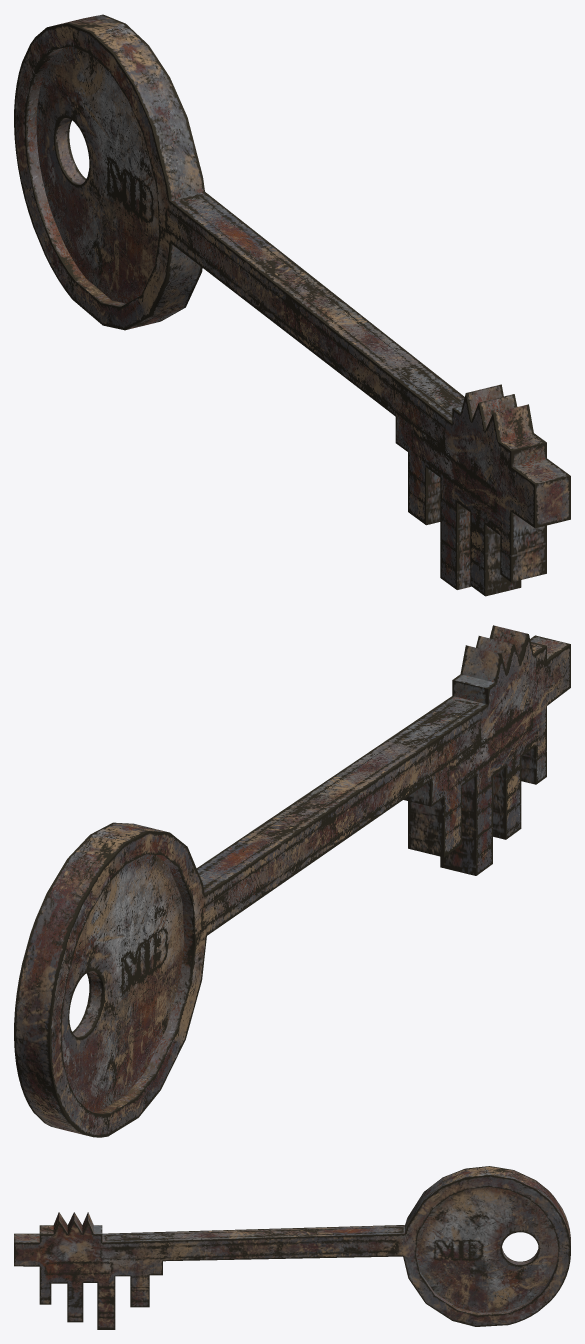
The model's file is Key.fbx.
3 views of the same model, one above another, from view 1: azimuth 30°, elevation 25°; view 2: azimuth 150°, elevation 25°; view 3: azimuth 270°, elevation 25° (orthographic). The views are drawn at different scales.
Visible parts, largest first — view 1: Extrude; view 2: Extrude; view 3: Extrude.
Part boxes in pixels (x1,y1,x2,y2): Extrude: [14, 14, 570, 596]; Extrude: [14, 625, 570, 1137]; Extrude: [14, 1166, 570, 1329].
Bounding box in the file's own units: 3.8 × 29.23 × 95.46.
Materials: 1 (1 with a texture image).
